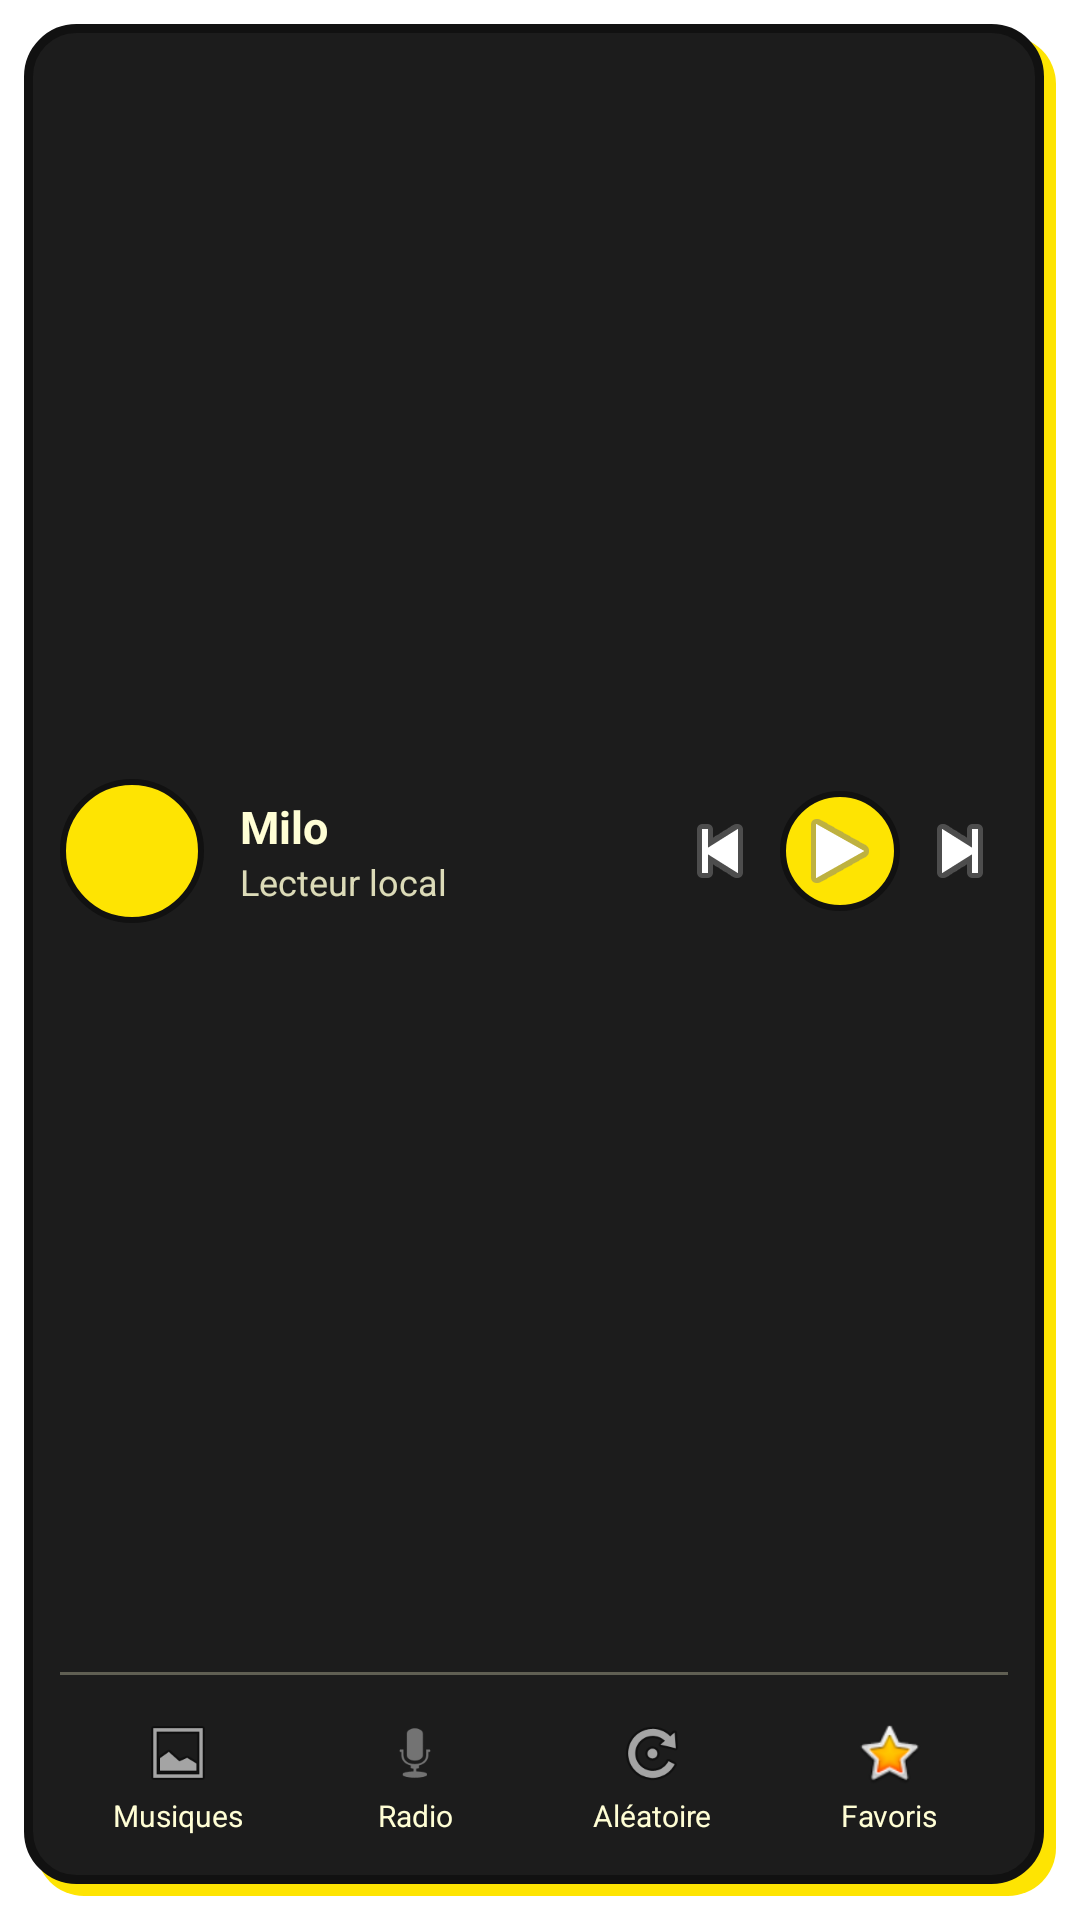

Where icons sit on this 1080*1920 app screen, as (x1, y1, x2, y2):
Lecture: (786, 797, 894, 905)
Précédent: (697, 824, 743, 878)
Suivant: (937, 824, 983, 878)
